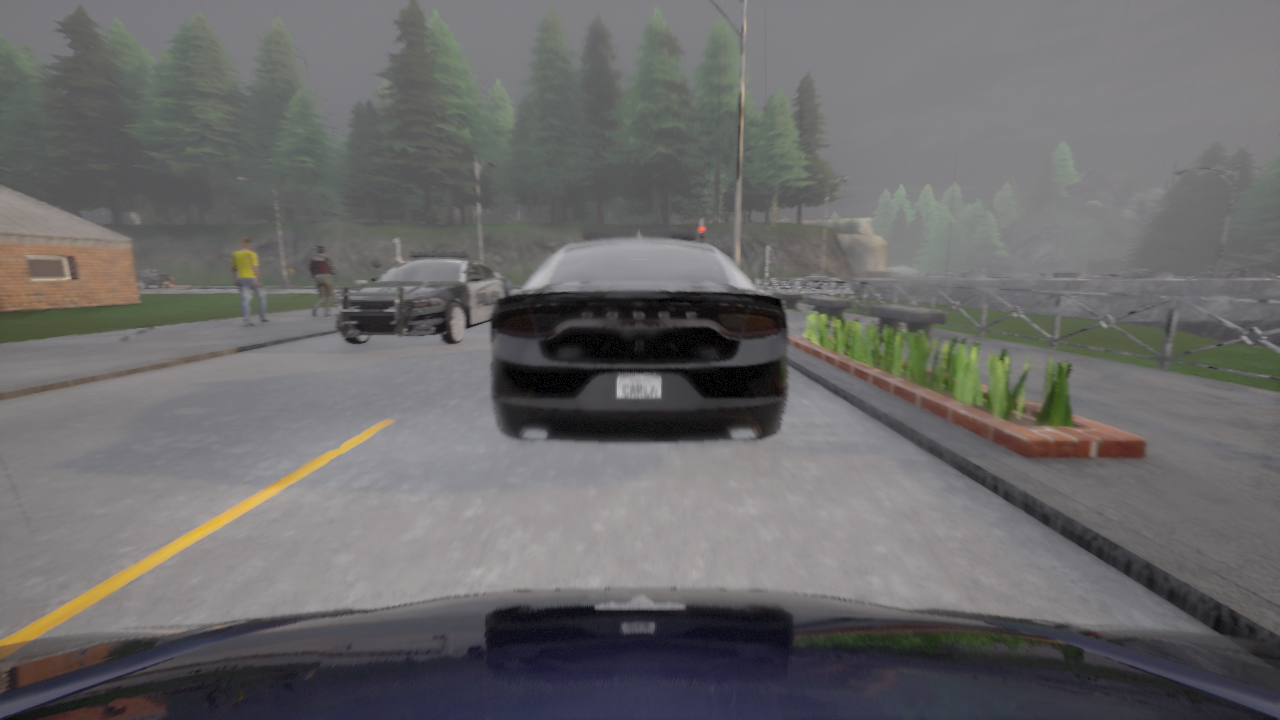cyclist: (0, 588, 1279, 719), (491, 228, 787, 443), (333, 250, 511, 344), (1097, 269, 1184, 279), (942, 269, 1022, 279), (135, 269, 172, 289), (1208, 269, 1279, 279)
pedestrian: (231, 237, 269, 326), (308, 245, 337, 317), (286, 266, 296, 286), (1185, 275, 1191, 279)
